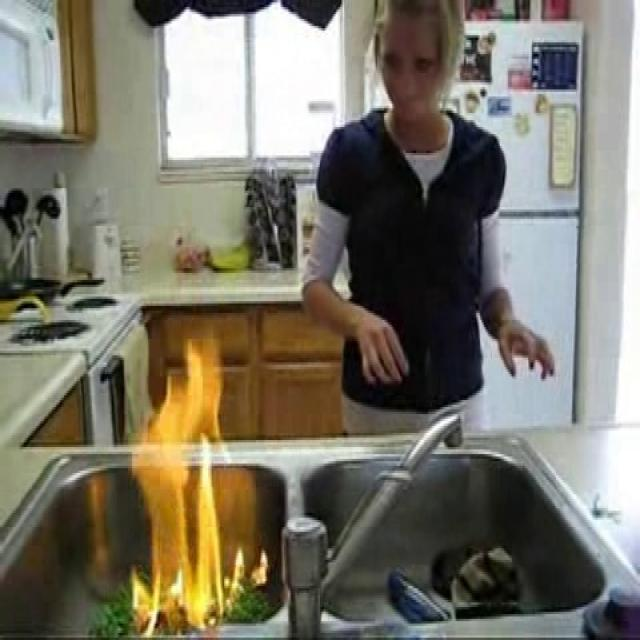fire: (132, 338, 232, 624)
